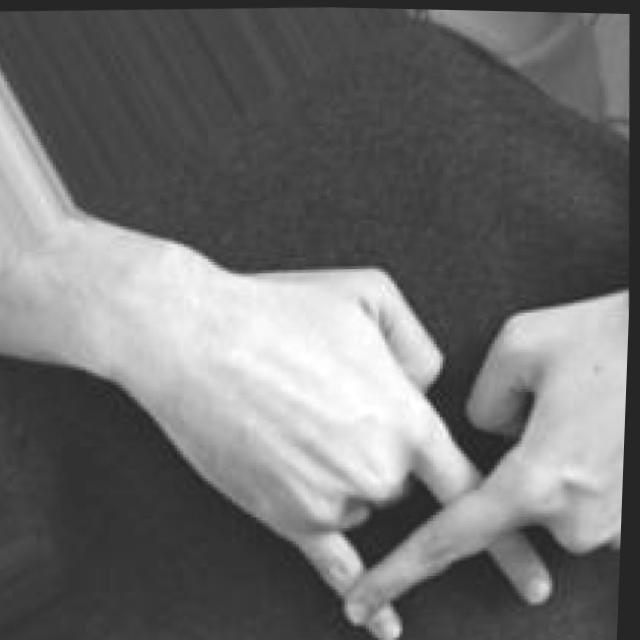H: (135, 224, 632, 640)
